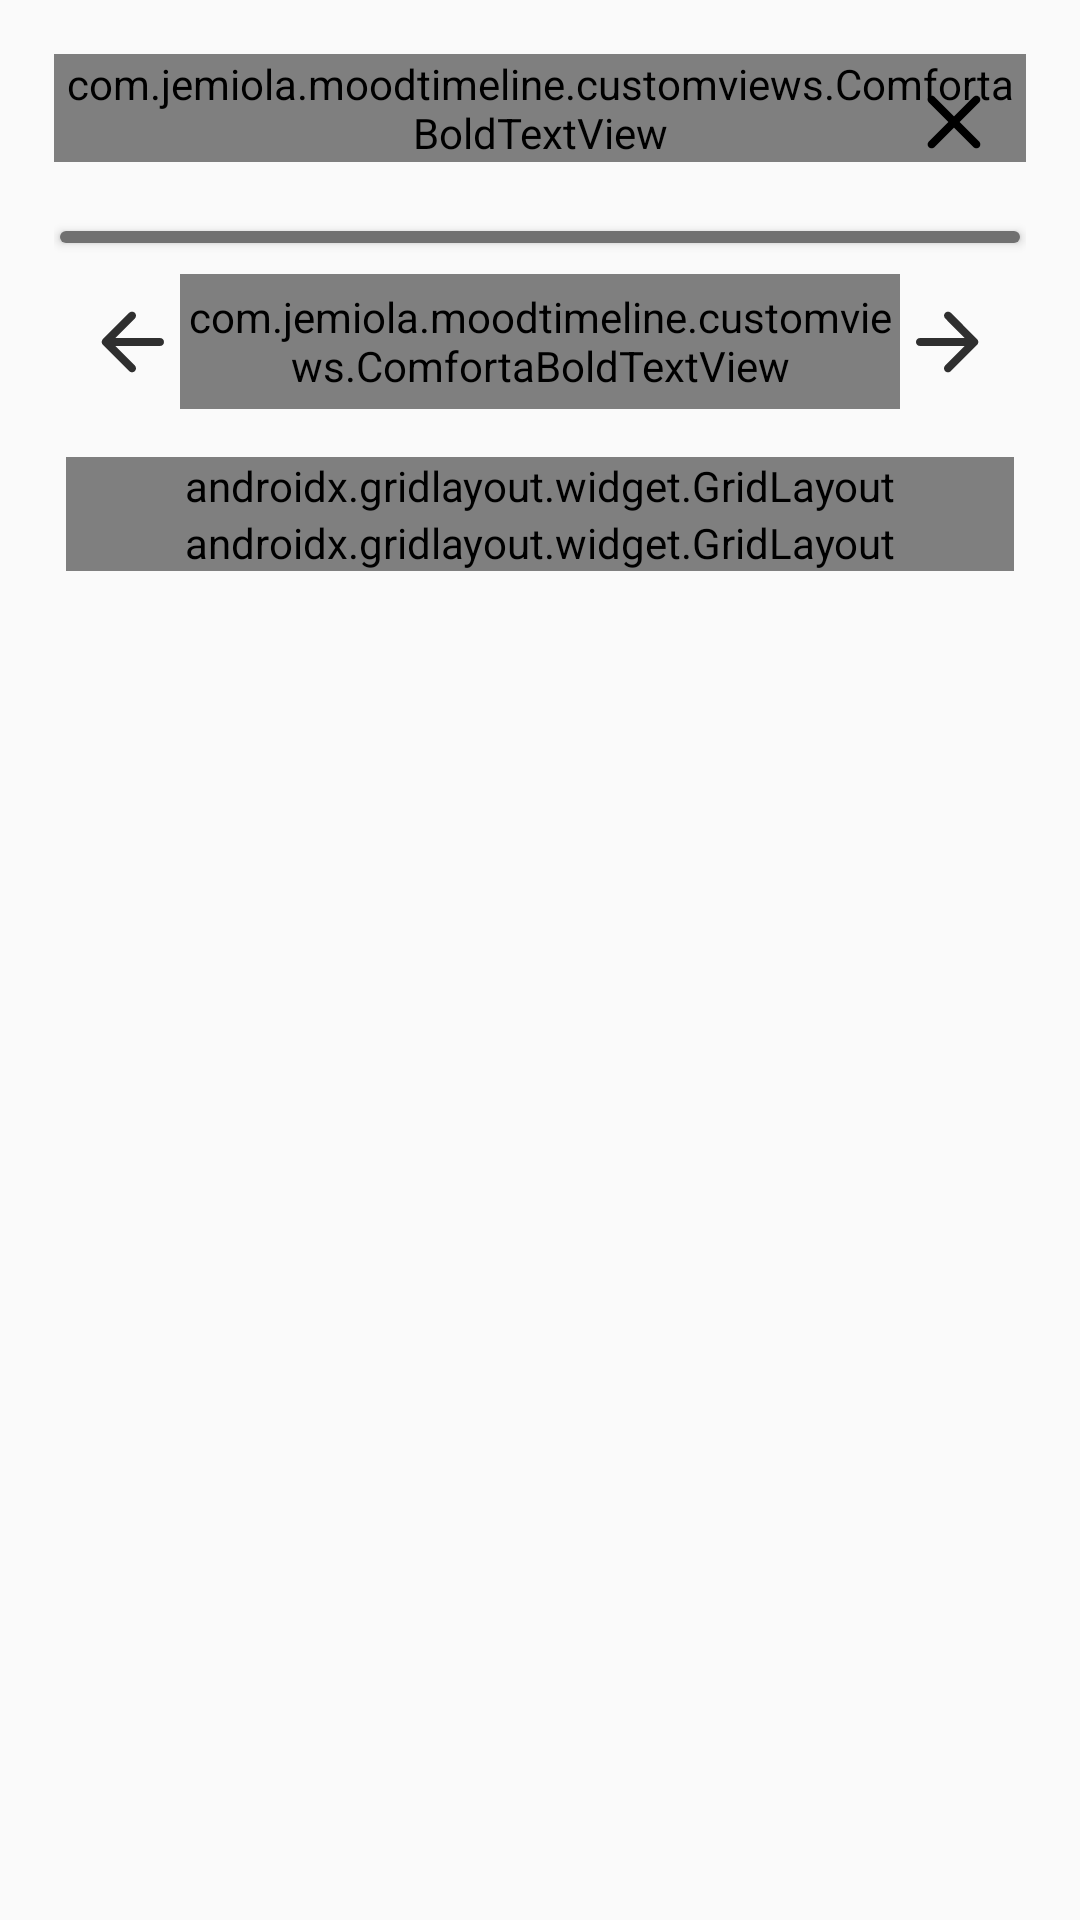

Screen size 1080px x 1920px. Icon name, then its box in pixels as (x1, y1, x2, y2):
arrow left: (101, 311, 164, 373)
arrow right: (916, 311, 979, 373)
